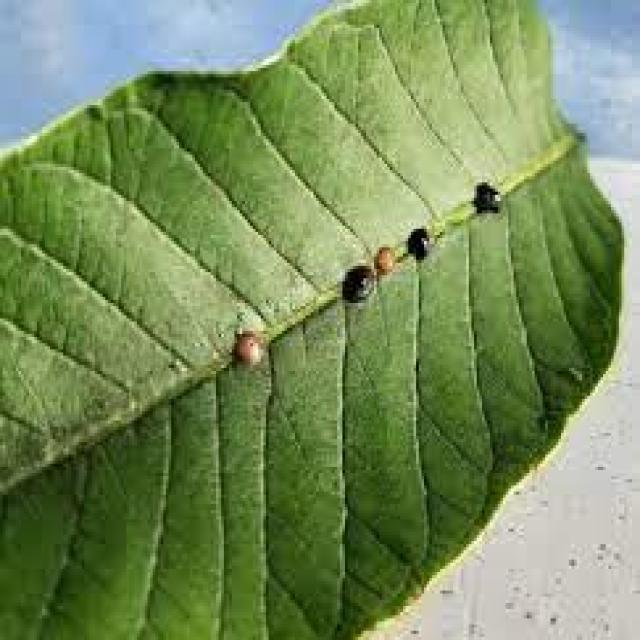scale_insect: (227, 315, 266, 371), (334, 257, 376, 306), (466, 173, 506, 220), (366, 238, 395, 278), (403, 219, 429, 263)
